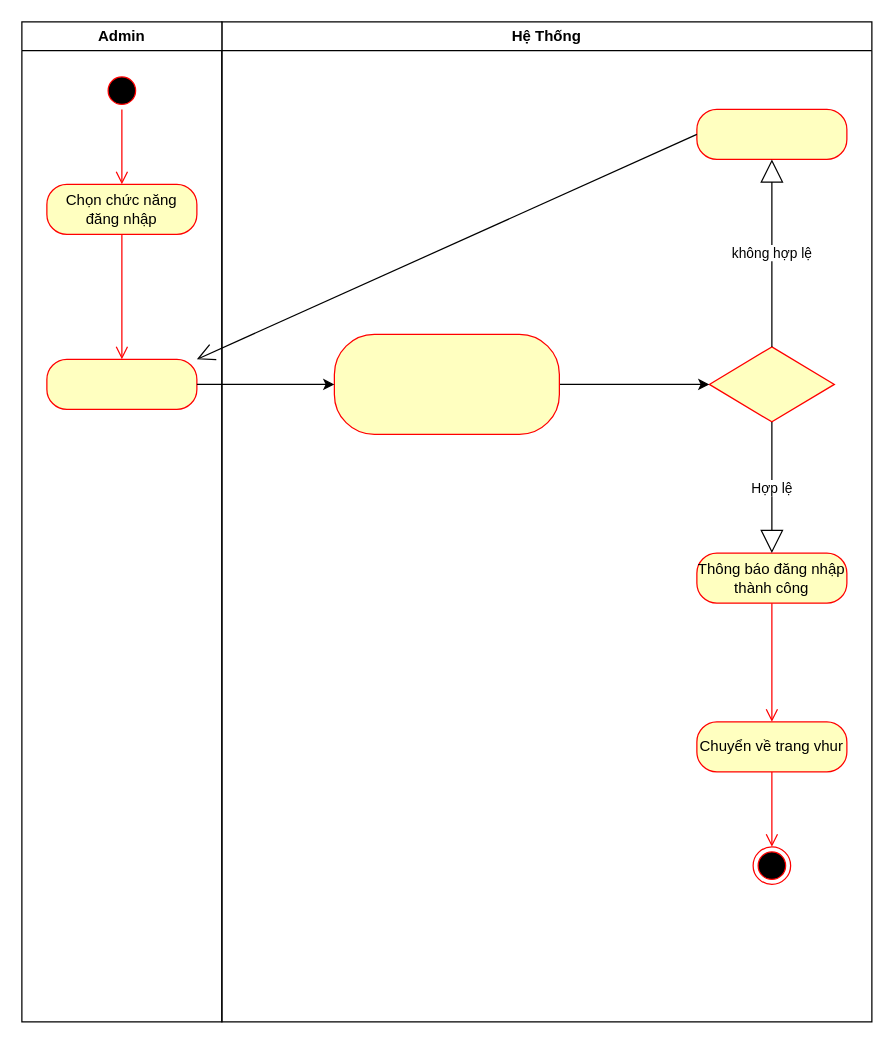
Some shapes in this 894 by 1044 pixel diagram are drawn without their labels. The centre of each missing label's shape, as x and y in pixels:
Kiểm tra thông tin đăng nhập: (x=446, y=383)
Nhập username, password: (x=121, y=383)
Sai thông tin: (x=771, y=133)
